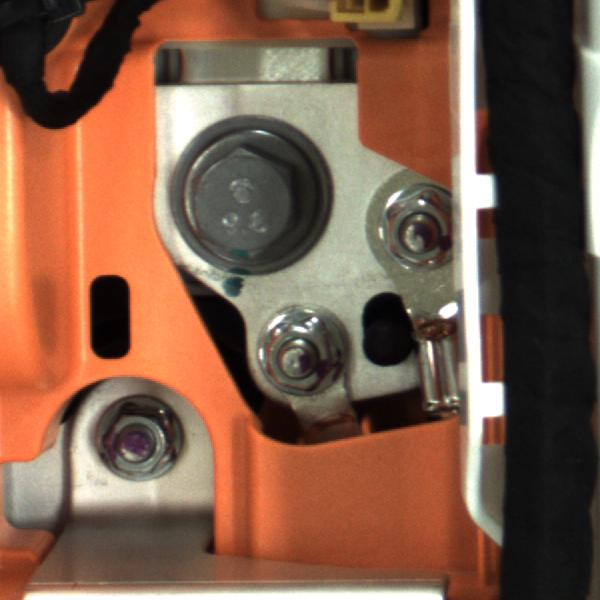nut_b: (156, 112, 339, 279)
screw_s: (240, 299, 376, 408), (84, 399, 193, 485), (373, 189, 459, 272)
